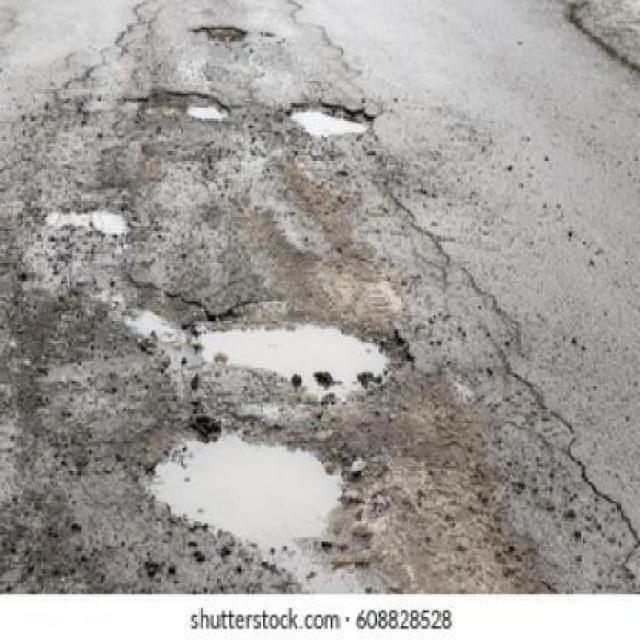Pothole: (133, 424, 350, 556), (188, 313, 398, 402), (286, 98, 376, 140), (127, 89, 230, 122), (192, 23, 250, 43)
